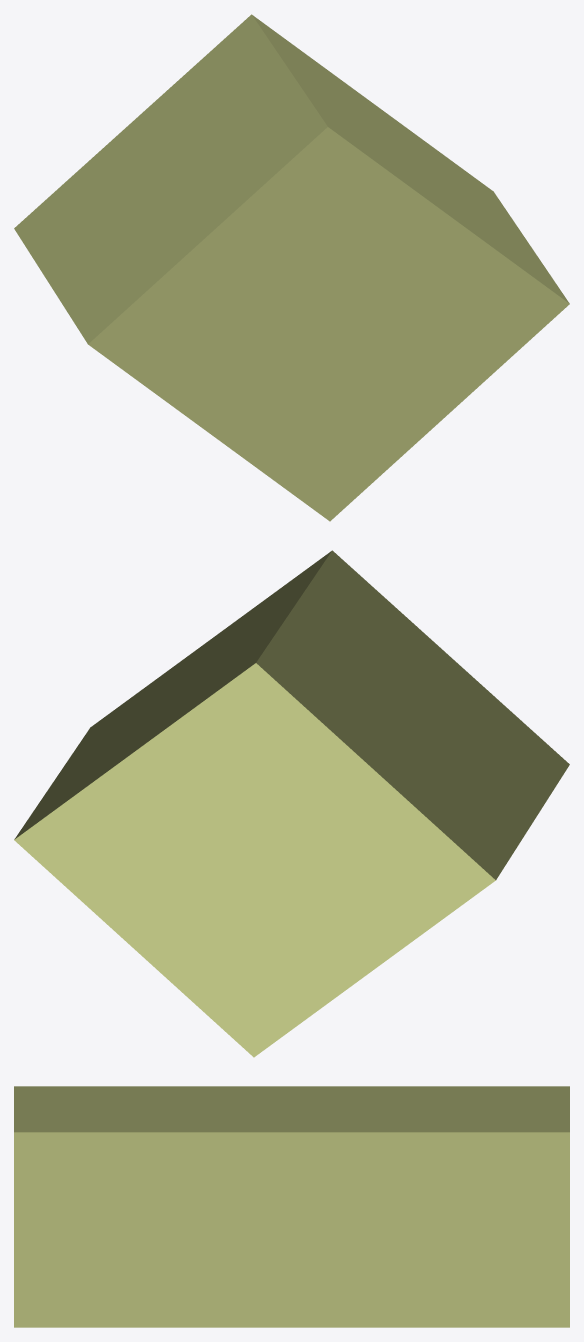
The picture shows the model from 3 angles, top to bottom: view 1: azimuth 30°, elevation 25°; view 2: azimuth 150°, elevation 25°; view 3: azimuth 270°, elevation 25°; orthographic projection. The views are drawn at different scales.
Visible parts, largest first — view 1: 0_1_3_2_2_1_2_1_2_3_1_3; view 2: 0_1_3_2_2_1_2_1_2_3_1_3; view 3: 0_1_3_2_2_1_2_1_2_3_1_3.
Part boxes in pixels (<box>): 0_1_3_2_2_1_2_1_2_3_1_3: <box>14,14,569,521</box>; 0_1_3_2_2_1_2_1_2_3_1_3: <box>14,550,569,1057</box>; 0_1_3_2_2_1_2_1_2_3_1_3: <box>14,1086,569,1327</box>.
Bounding box in the file's own units: 4.49 × 3.97 × 6.
